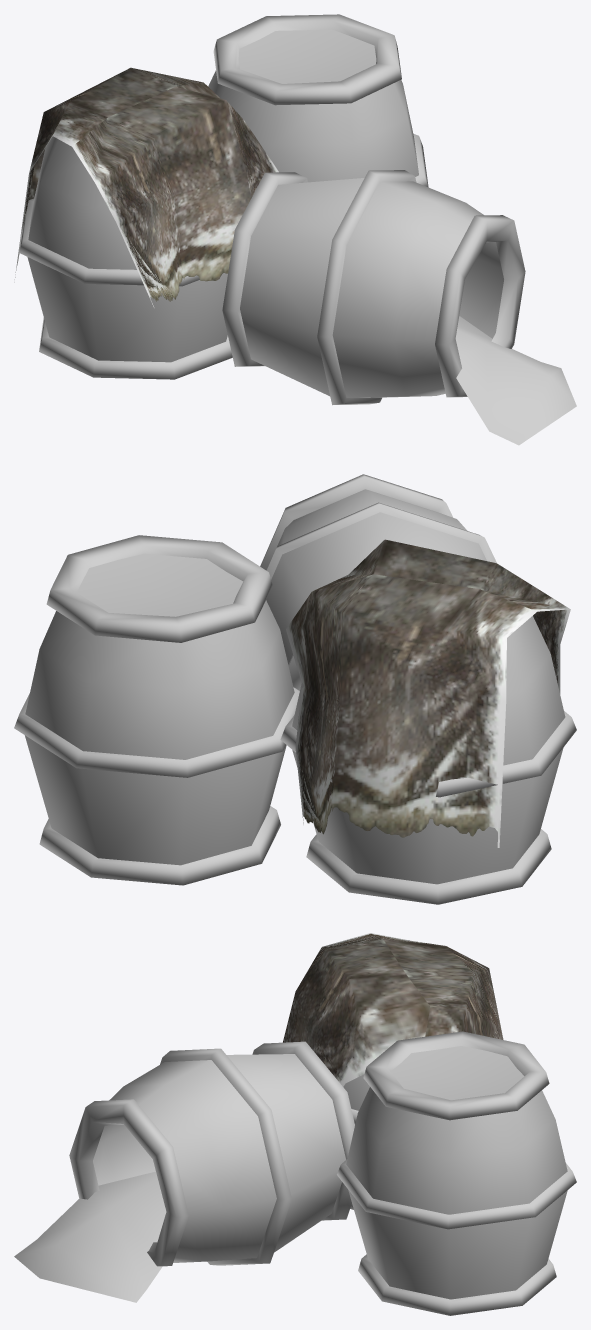
Rendered from S_Build_Snowland056.FBX.
3 views of the same model, one above another, from view 1: azimuth 30°, elevation 25°; view 2: azimuth 150°, elevation 25°; view 3: azimuth 270°, elevation 25° (orthographic). The views are drawn at different scales.
Parts seen in each view (by area): view 1: S_Build_Snowland056; view 2: S_Build_Snowland056; view 3: S_Build_Snowland056.
Boxes of the visible parts, x1,y1,x2,y2 form: S_Build_Snowland056: (14, 14, 576, 445); S_Build_Snowland056: (14, 474, 576, 904); S_Build_Snowland056: (14, 933, 576, 1315).
Size of the model in its own units: 169 by 209 by 104.
